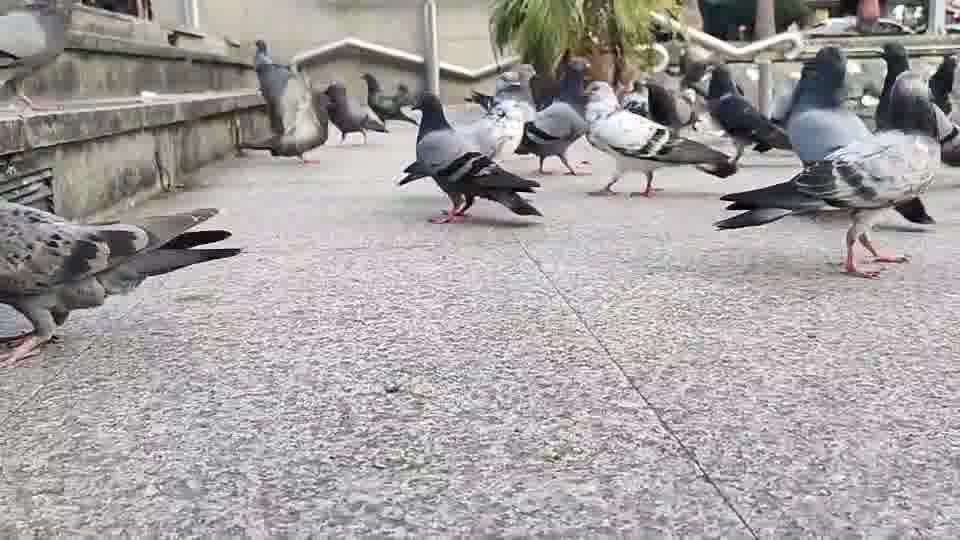Pigeon: (712, 44, 937, 279), (0, 196, 246, 368), (394, 90, 544, 224), (581, 79, 737, 199), (237, 38, 327, 166), (513, 54, 591, 176), (320, 79, 389, 145), (359, 71, 419, 131)
